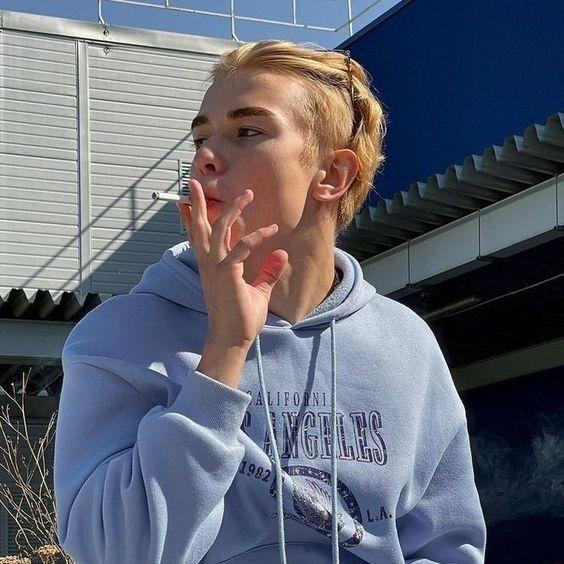cigarette: (152, 193, 189, 203)
